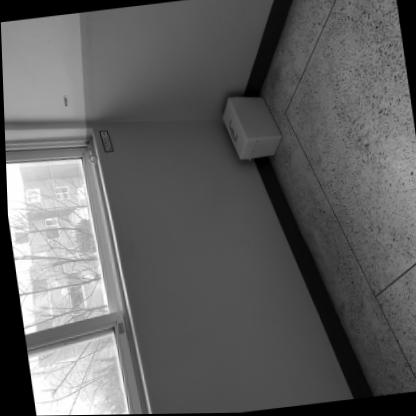DDL: (217, 91, 283, 163)
